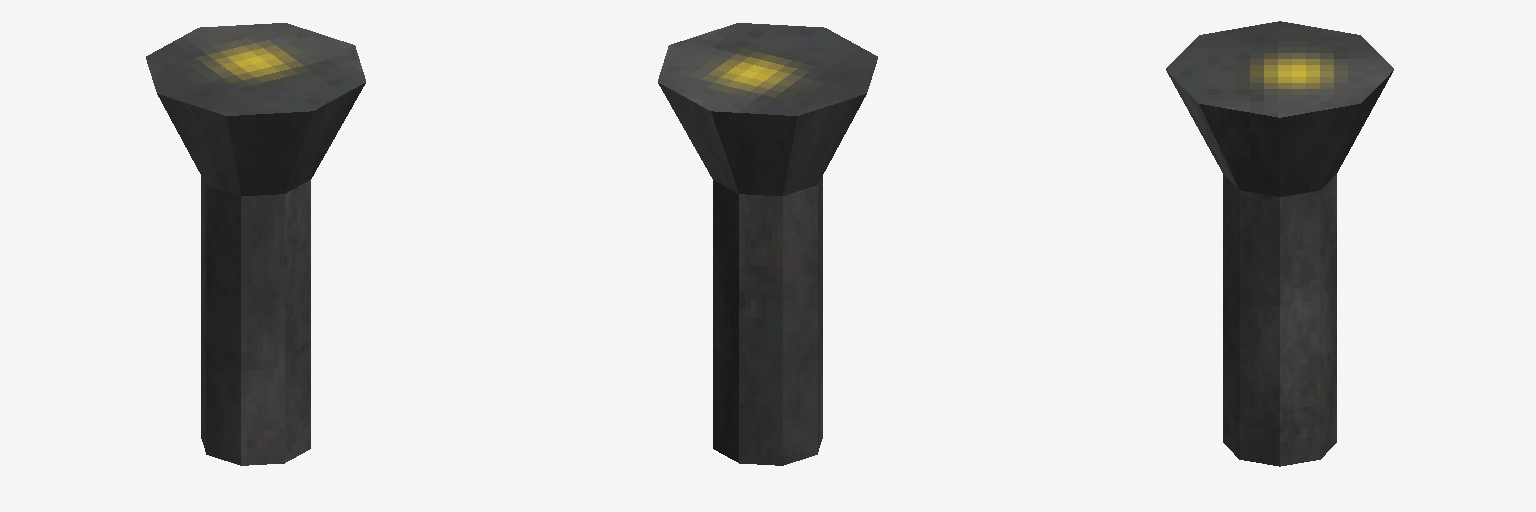
3 views of the same model, side by side, from view 1: azimuth 30°, elevation 25°; view 2: azimuth 150°, elevation 25°; view 3: azimuth 270°, elevation 25° (orthographic).
Parts seen in each view (by area): view 1: Cylinder; view 2: Cylinder; view 3: Cylinder.
Boxes of the visible parts, x1,y1,x2,y2 form: Cylinder: [146, 23, 365, 465]; Cylinder: [658, 23, 877, 465]; Cylinder: [1166, 21, 1393, 466].
Size of the model in its own units: 0.6 by 1.08 by 0.6.
1 materials, 1 textured.